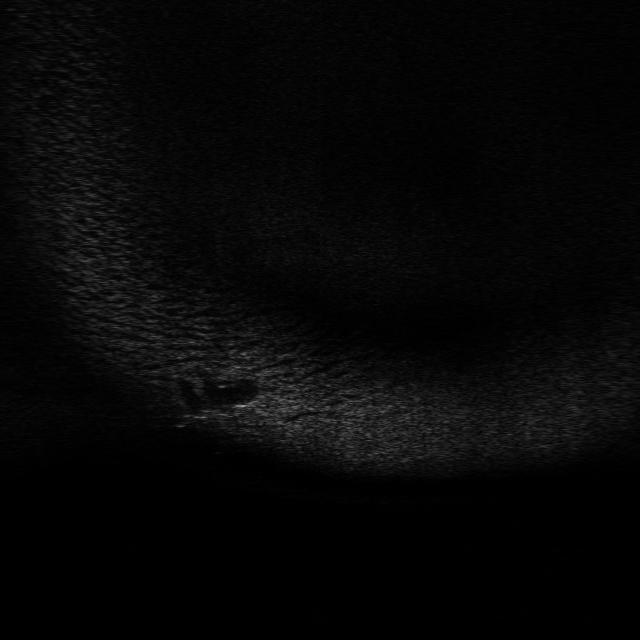plane: (174, 404, 238, 431)
